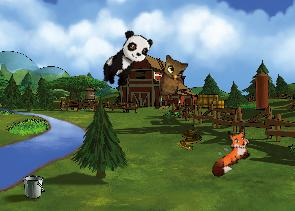fox: (198, 122, 260, 180)
owl: (159, 55, 188, 102)
panda: (97, 26, 155, 93)
